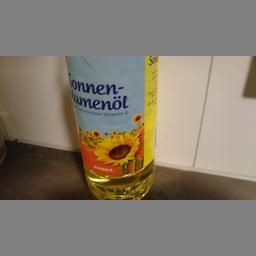oil: (64, 56, 160, 198)
